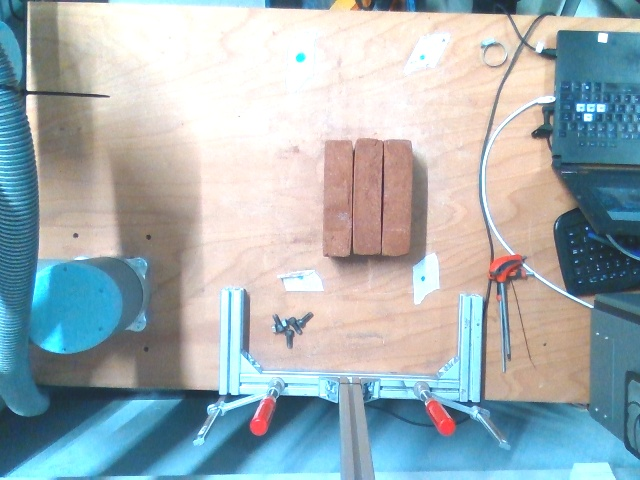brick-side: (382, 138, 413, 254), (352, 138, 382, 255), (323, 140, 351, 256)
